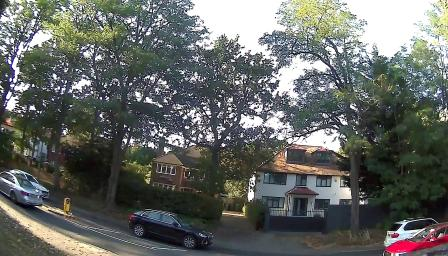Car_Four_Wheels: (130, 212, 218, 252), (381, 216, 442, 256), (0, 169, 57, 211), (382, 220, 440, 239), (402, 218, 418, 232)
